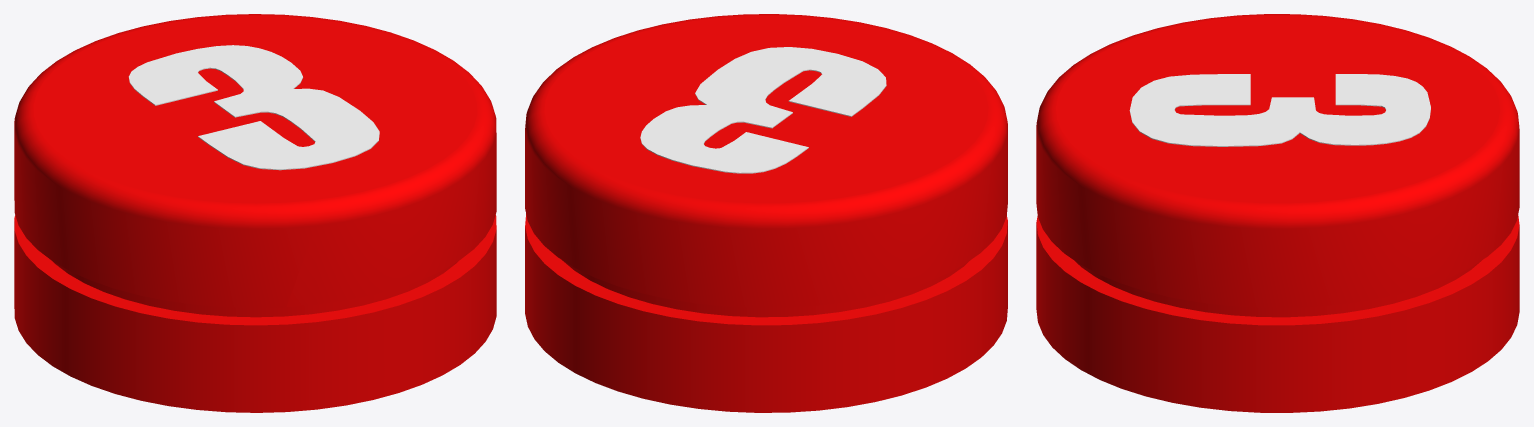
File: nubot_frame3_red.dae
The picture shows the model from 3 angles, left to right: view 1: azimuth 30°, elevation 25°; view 2: azimuth 150°, elevation 25°; view 3: azimuth 270°, elevation 25°; orthographic projection.
Visible parts, largest first — view 1: SketchUp (×3), instance_0; view 2: SketchUp (×3), instance_0; view 3: SketchUp (×3), instance_0.
Boxes of the visible parts, x1,y1,x2,y2 form: SketchUp (×3): (14,14,496,412); instance_0: (128,45,379,170); SketchUp (×3): (525,14,1007,412); instance_0: (640,47,886,173); SketchUp (×3): (1036,14,1519,412); instance_0: (1129,74,1430,146).
Bounding box in the file's own units: 19.66 × 19.68 × 9.09.
